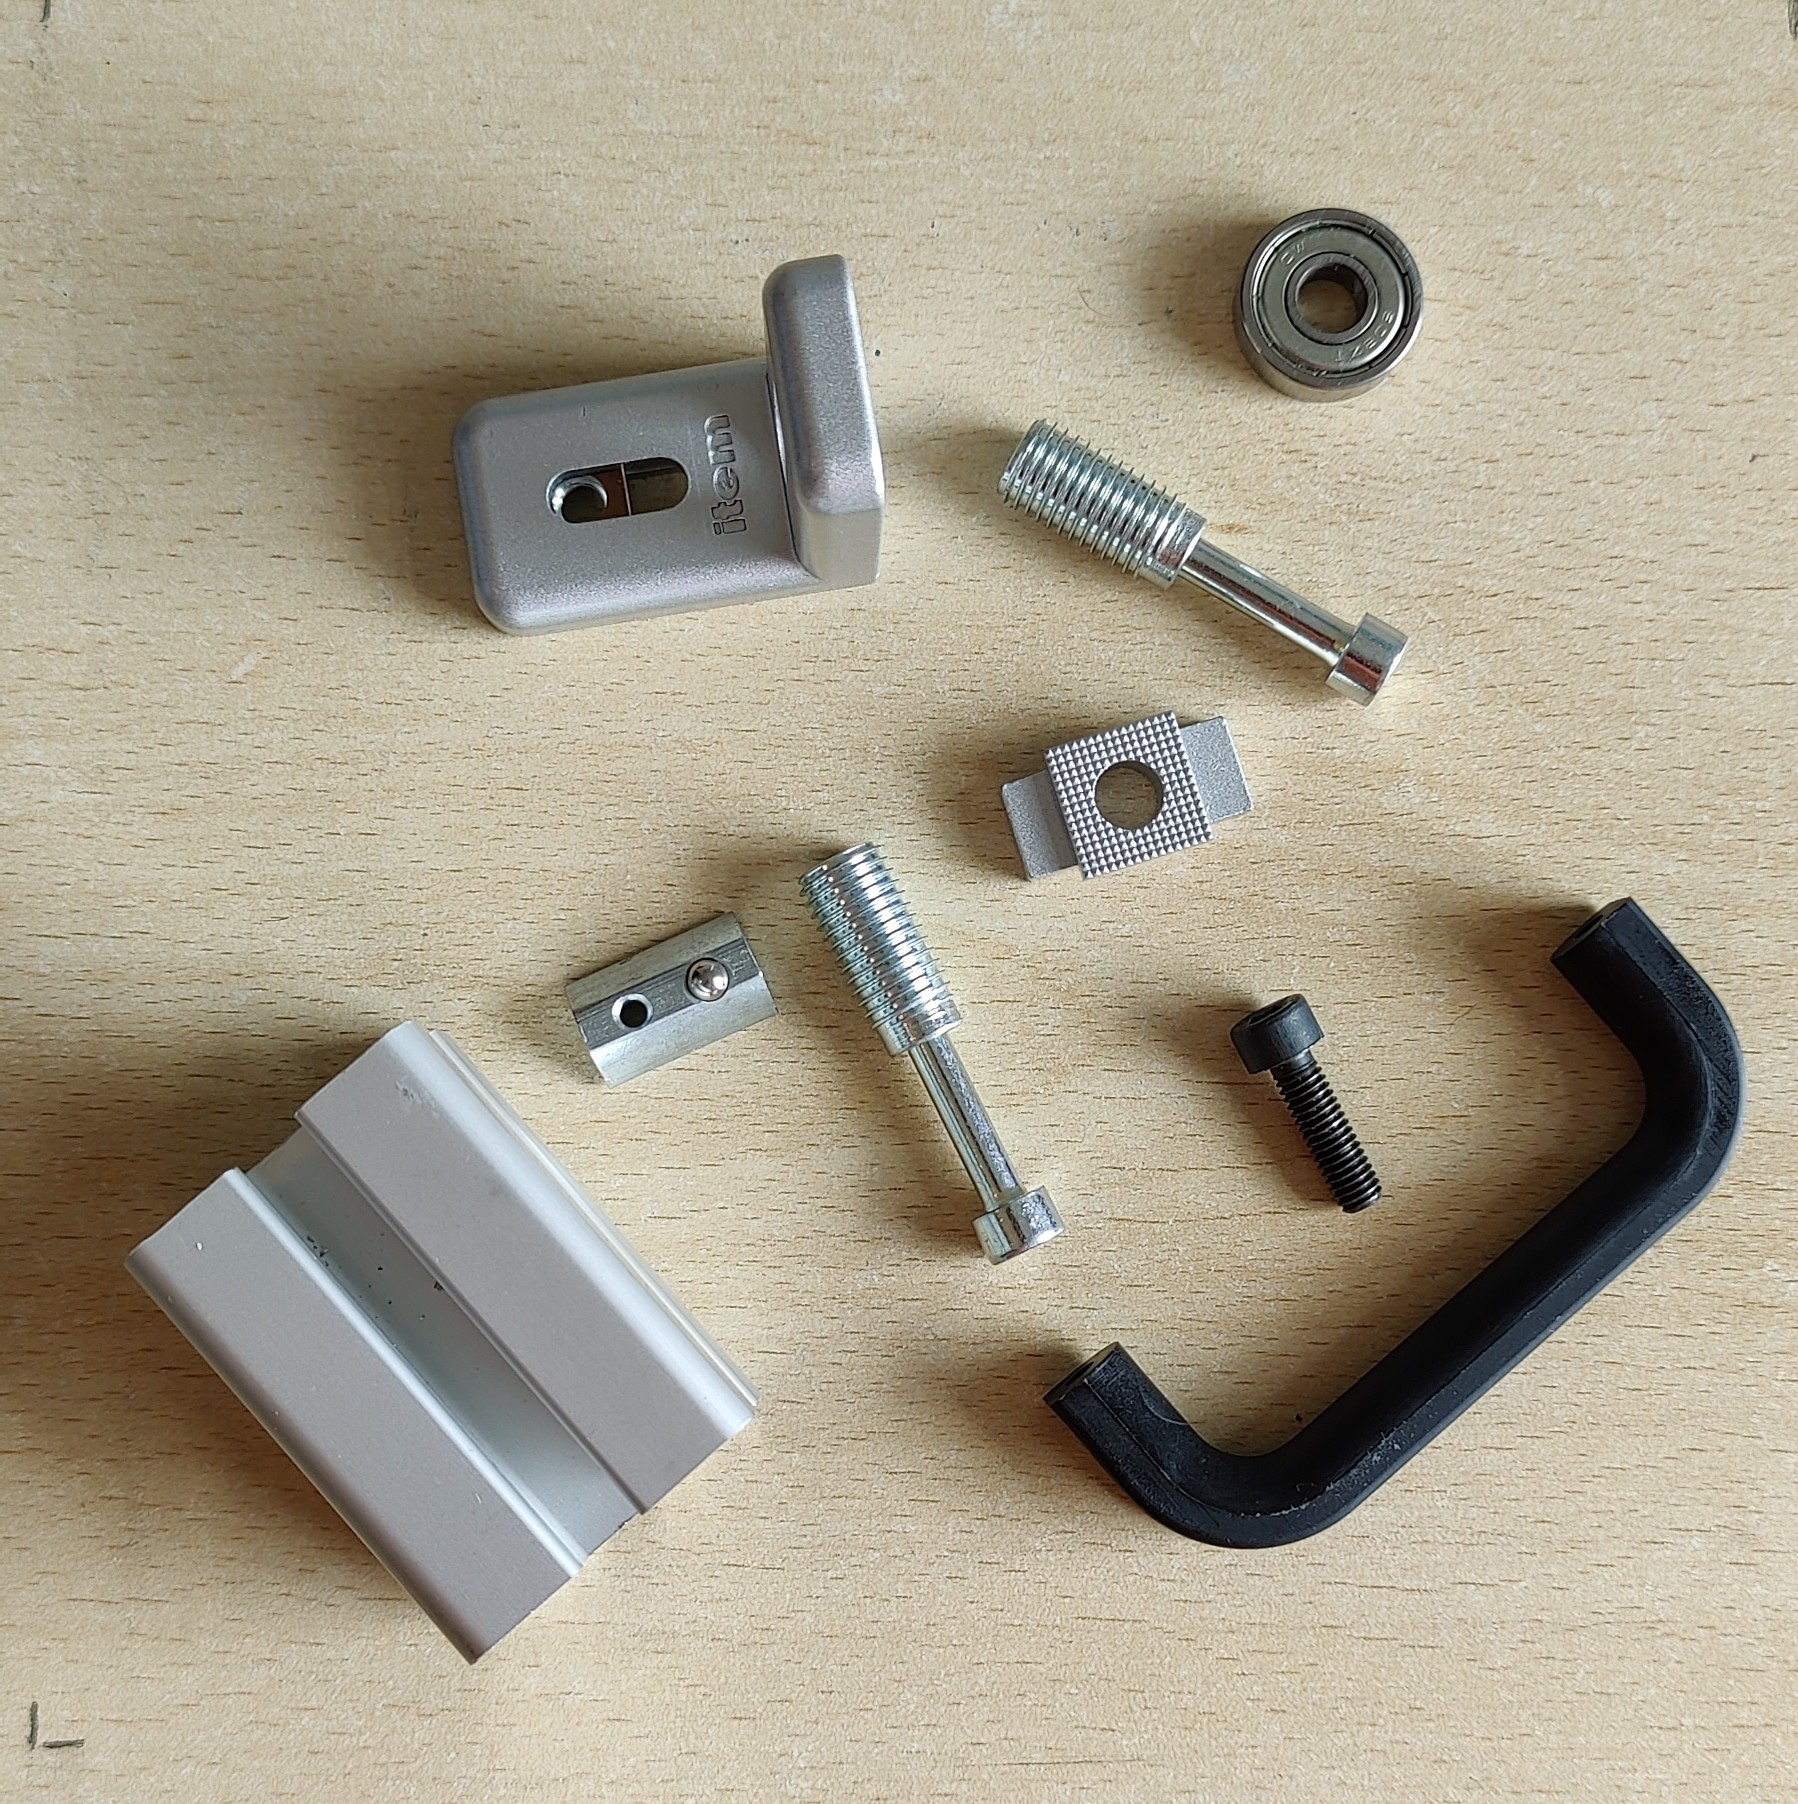Aluminium Extension: (119, 1016, 762, 1671)
Ball Bearing: (1228, 202, 1424, 405)
Multiwinkel: (446, 250, 887, 640)
Pull Handle: (1039, 894, 1750, 1554)
Shoulder Socket Head Cap Screw: (994, 415, 1413, 713), (795, 838, 1067, 1267)
Socket Head Cap Screw: (1228, 993, 1385, 1220)
T Nut Square: (998, 708, 1256, 884)
T Spring Nut: (561, 907, 779, 1090)
